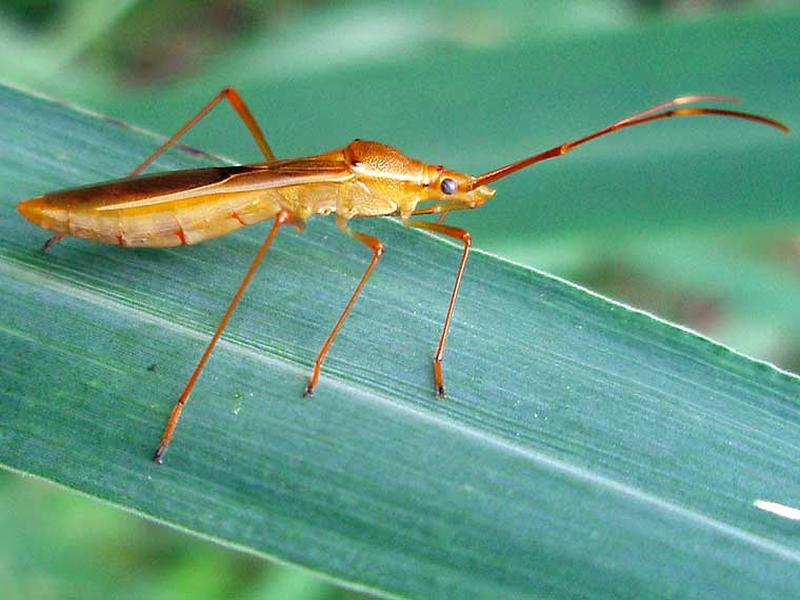Rice_earhead_bug: (8, 108, 543, 361)
